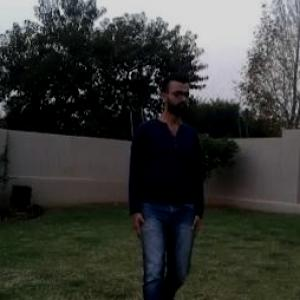follow: (121, 46, 216, 299)
